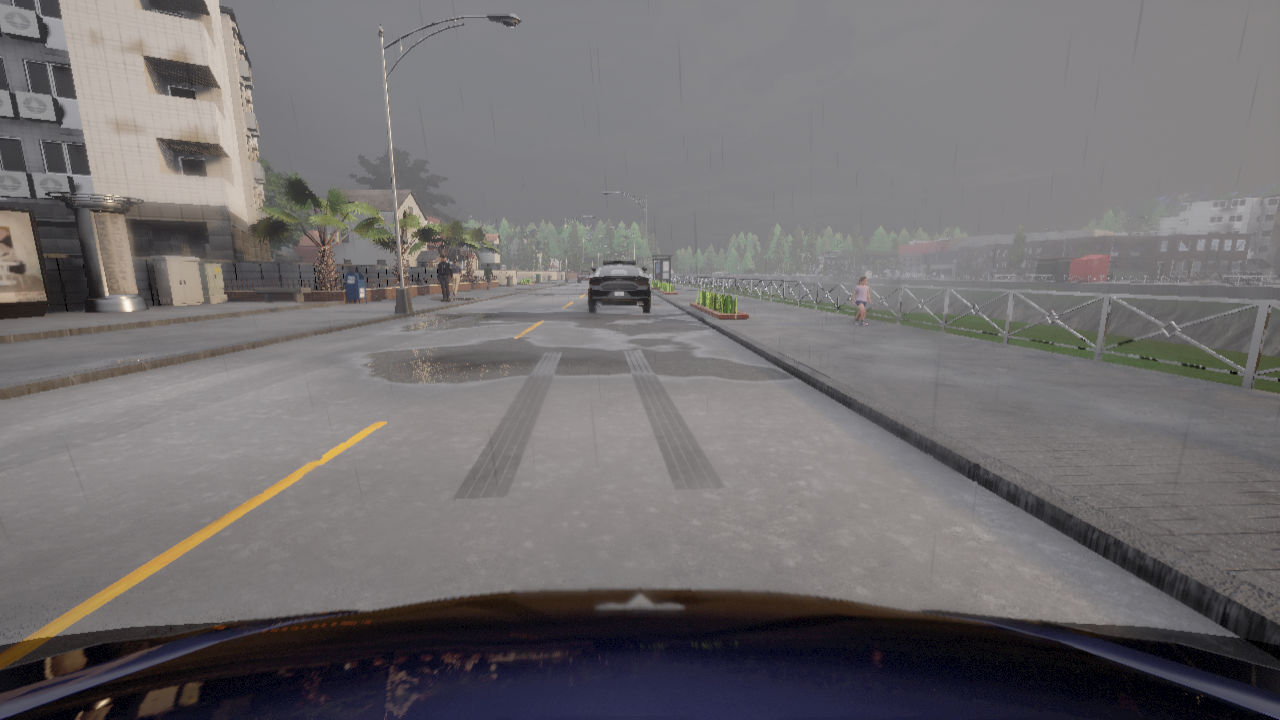cyclist: (0, 588, 1279, 719), (588, 260, 650, 312)
pedestrian: (852, 276, 871, 325), (437, 255, 453, 300), (450, 259, 462, 295), (484, 264, 492, 289)
